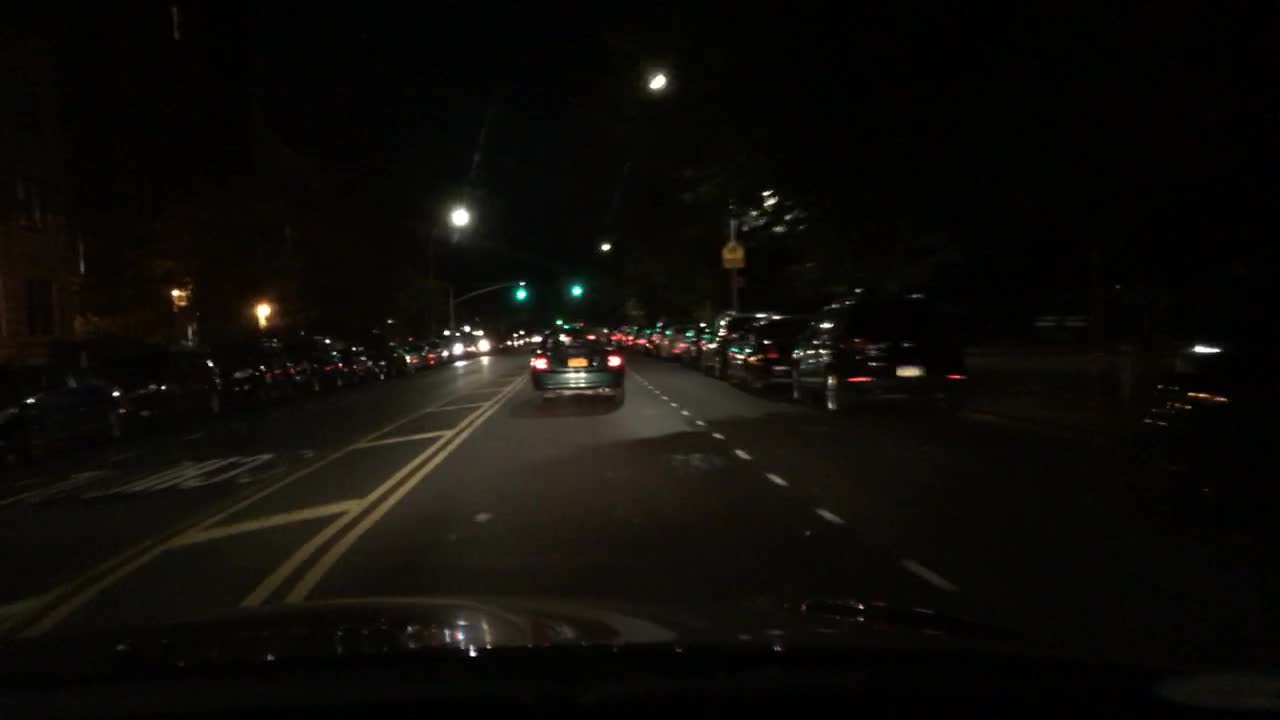car: (787, 289, 974, 415), (1135, 324, 1279, 487), (721, 310, 822, 394), (529, 326, 628, 410), (2, 367, 109, 441), (110, 357, 220, 423), (684, 310, 775, 379), (209, 344, 307, 402), (267, 332, 321, 398), (300, 332, 347, 389), (656, 321, 700, 366), (342, 345, 393, 382), (368, 335, 412, 375), (396, 335, 438, 370), (463, 326, 498, 355), (440, 332, 477, 358), (646, 324, 672, 361), (630, 328, 654, 359), (423, 341, 452, 364), (611, 328, 632, 352), (498, 334, 517, 353), (515, 329, 529, 346), (527, 332, 543, 344)
traffic light: (566, 281, 585, 297), (512, 287, 527, 301)
traffic sign: (720, 242, 745, 268)
